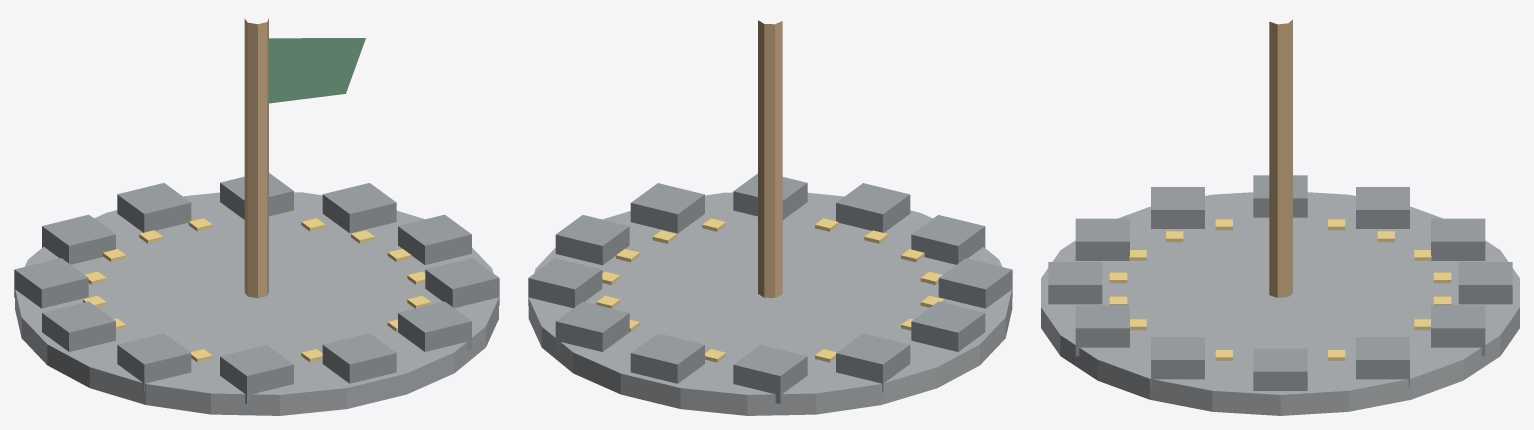
Rendered from sitio_construccion.glb.
The picture shows the model from 3 angles, left to right: view 1: azimuth 30°, elevation 25°; view 2: azimuth 150°, elevation 25°; view 3: azimuth 270°, elevation 25°; orthographic projection.
Visible parts, largest first — view 1: sitio_construccion_base_sillares, sitio_construccion_base_madera, sitio_construccion_brillo_hierro; view 2: sitio_construccion_base_sillares, sitio_construccion_base_madera, sitio_construccion_brillo_hierro; view 3: sitio_construccion_base_sillares, sitio_construccion_base_madera, sitio_construccion_brillo_hierro.
Part boxes in pixels (x1=…): sitio_construccion_base_sillares: x1=14, y1=173, x2=499, y2=415; sitio_construccion_base_madera: x1=244, y1=18, x2=365, y2=298; sitio_construccion_brillo_hierro: x1=83, y1=218, x2=430, y2=362; sitio_construccion_base_sillares: x1=528, y1=173, x2=1012, y2=415; sitio_construccion_base_madera: x1=758, y1=20, x2=782, y2=297; sitio_construccion_brillo_hierro: x1=596, y1=218, x2=944, y2=362; sitio_construccion_base_sillares: x1=1041, y1=175, x2=1519, y2=415; sitio_construccion_base_madera: x1=1269, y1=19, x2=1292, y2=297; sitio_construccion_brillo_hierro: x1=1109, y1=219, x2=1451, y2=360.
Size of the model in its own units: 2.5 by 1.68 by 2.47.
